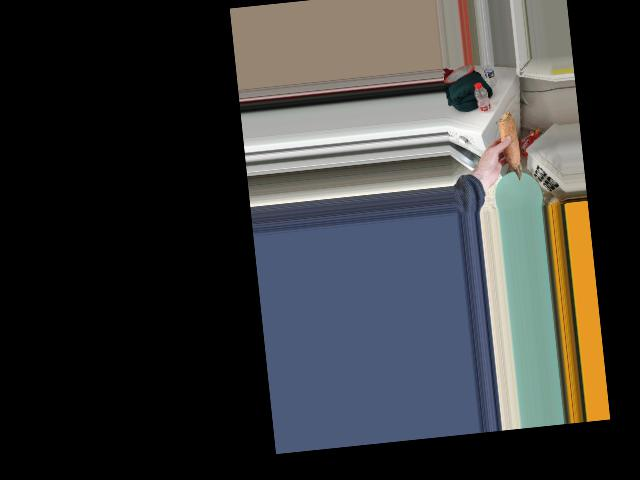sweet_potato: (494, 117, 522, 180)
